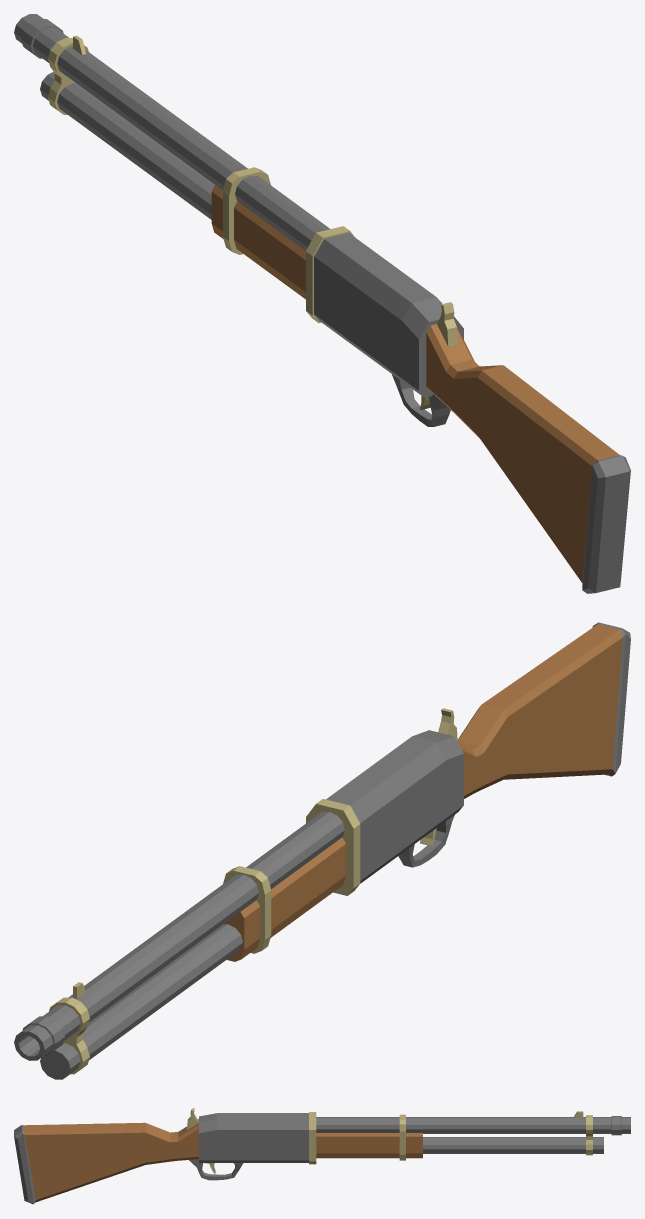
File: ptsk.glb
3 renders of one model, top to bottom at view 1: azimuth 30°, elevation 25°; view 2: azimuth 150°, elevation 25°; view 3: azimuth 270°, elevation 25°, orthographic. The views are drawn at different scales.
Parts seen in each view (by area): view 1: Carabine; view 2: Carabine; view 3: Carabine.
Boxes of the visible parts, x1,y1,x2,y2 form: Carabine: [14, 14, 630, 593]; Carabine: [14, 622, 630, 1079]; Carabine: [14, 1108, 630, 1204].
Size of the model in its own units: 54.92 by 192 by 1171.
